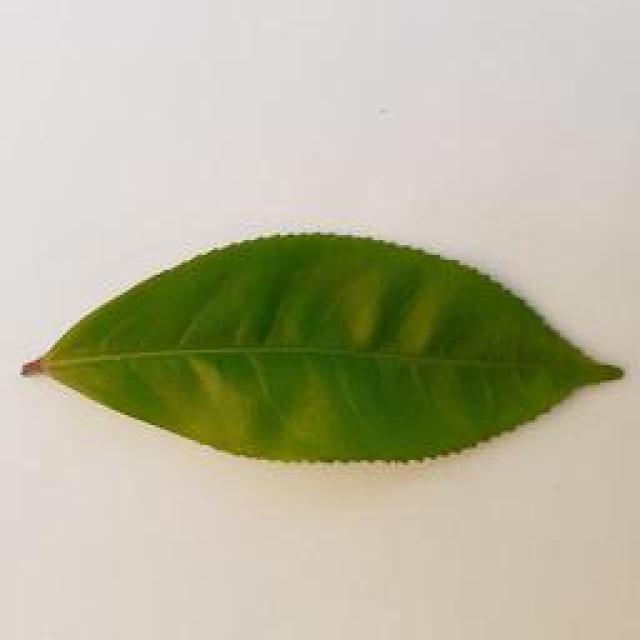Healthy: (14, 216, 640, 491)
